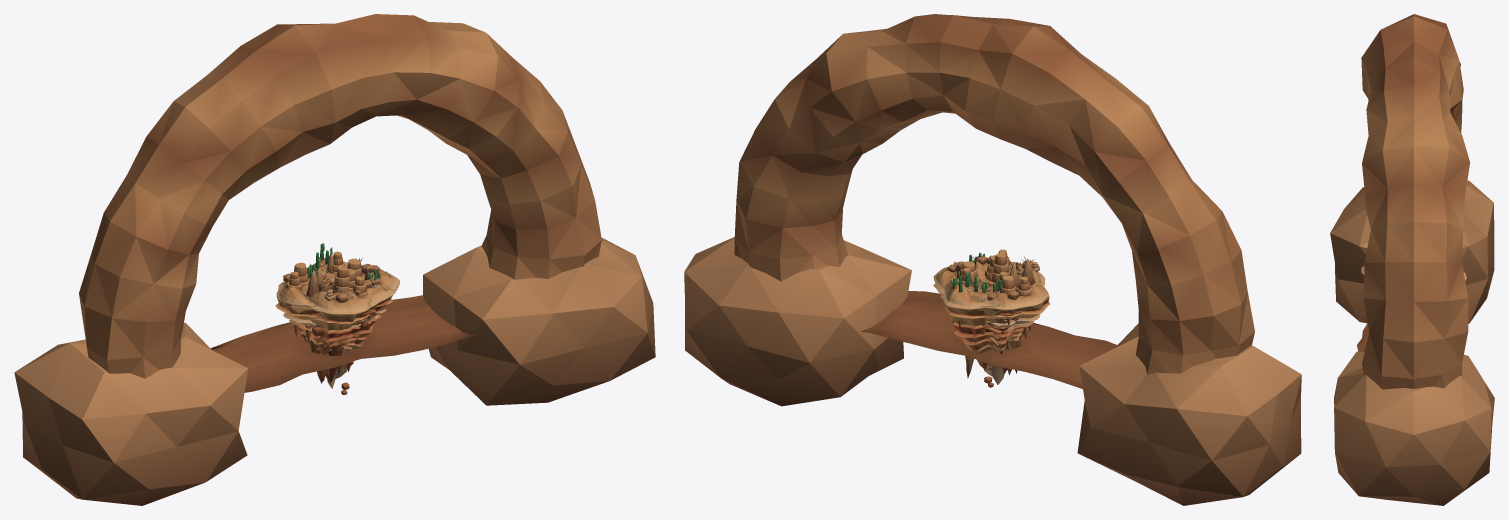
The model's file is isle-gorge-DnCzrolk.glb.
3 renders of one model, left to right at view 1: azimuth 30°, elevation 25°; view 2: azimuth 150°, elevation 25°; view 3: azimuth 270°, elevation 25°, orthographic. The views are drawn at different scales.
Visible parts, largest first — view 1: far, isle_2, isle_1, isle_0; view 2: far, isle_2, isle_1; view 3: far.
Part boxes in pixels (x1,y1,x2,y2): far: [14, 14, 655, 505]; isle_2: [283, 243, 382, 394]; isle_1: [275, 250, 399, 350]; isle_0: [294, 253, 395, 328]; far: [684, 14, 1301, 505]; isle_2: [941, 254, 1045, 387]; isle_1: [933, 253, 1050, 369]; far: [1330, 14, 1494, 505].
Size of the model in its own units: 559 by 376 by 153.
